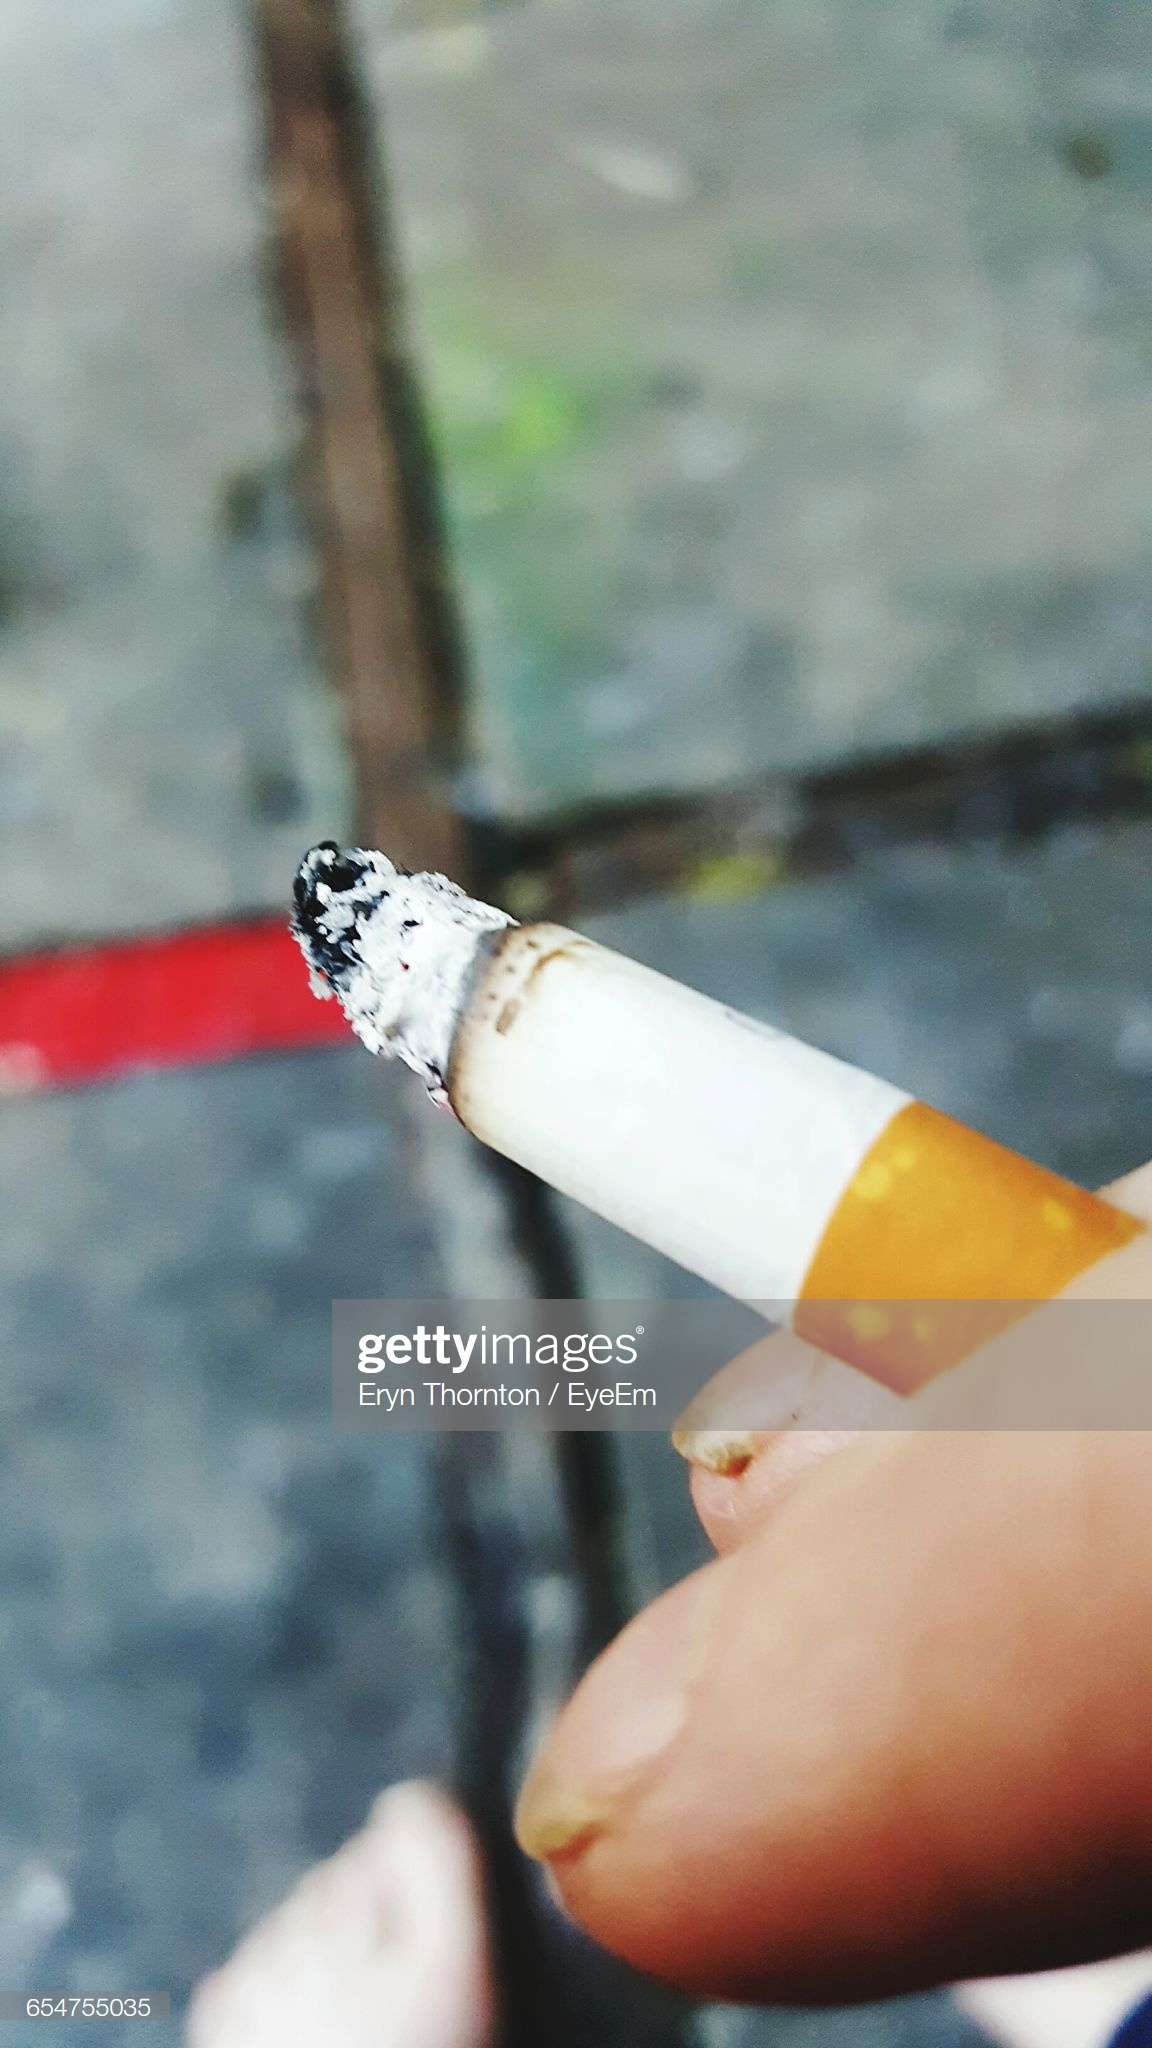sigaretta: (295, 854, 1113, 1388)
